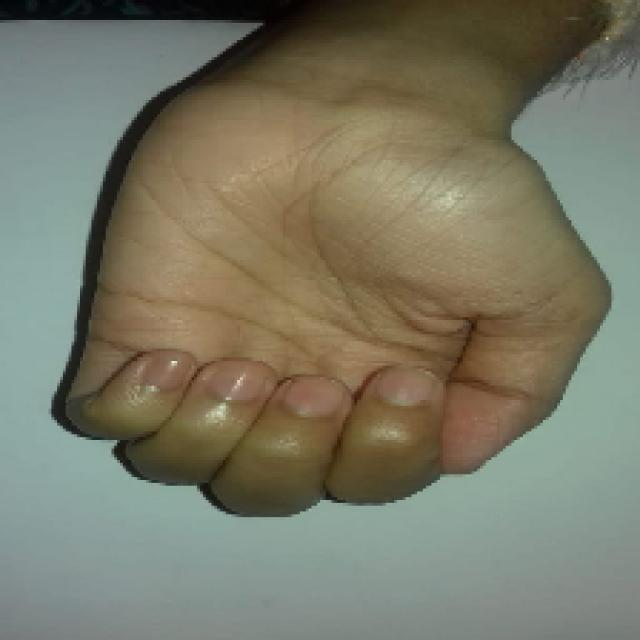Nail: (286, 375, 345, 418), (209, 359, 268, 401), (375, 366, 434, 407), (145, 350, 194, 389)
